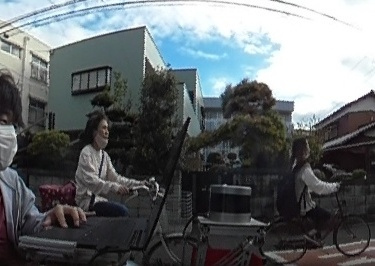person: (65, 109, 149, 213), (285, 133, 342, 244)
